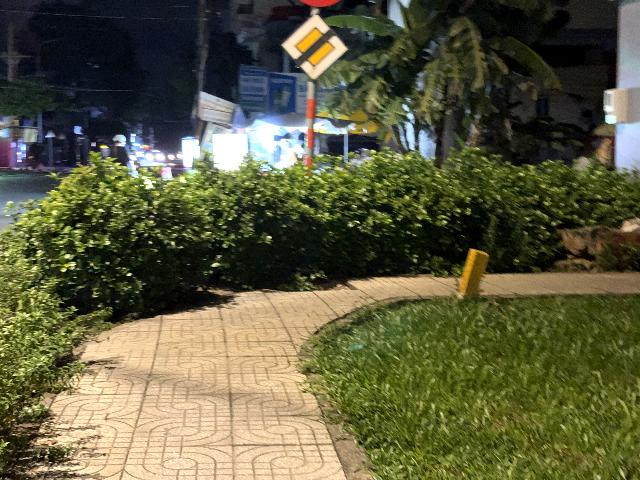het-duong-uu-tien: (281, 12, 350, 82)
